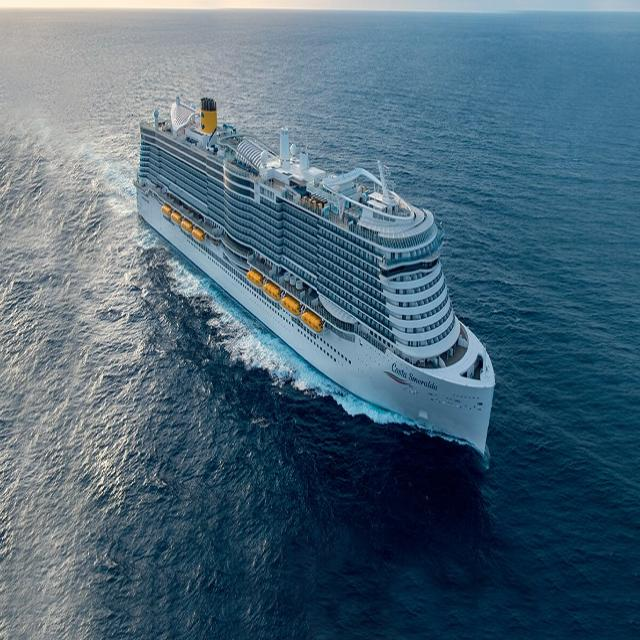passenger ship: (132, 84, 489, 462)
